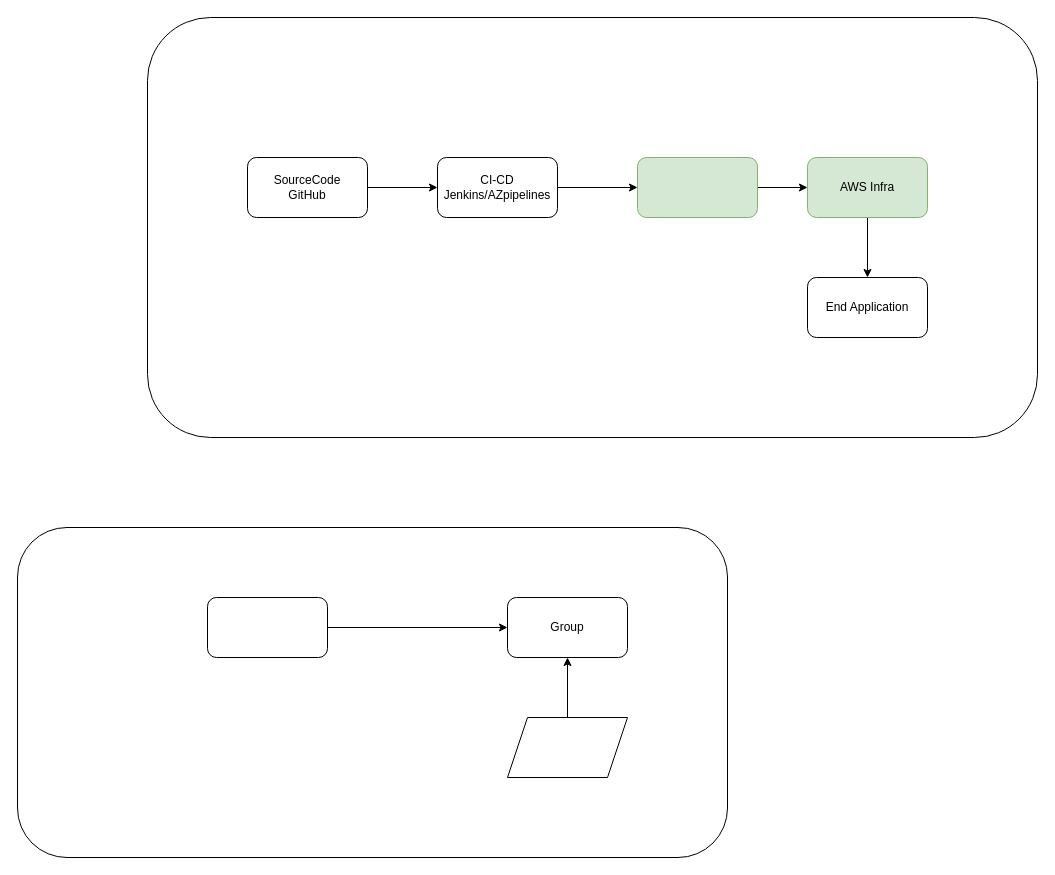
Image size: 1055x875. Some labels were removed from this diagram. Each missing label, with the centre of its shape:
"AWS CFT" belongs at pixel 697 187.
"EC2 Ploicy" belongs at pixel 567 747.
"USER" belongs at pixel 267 627.
